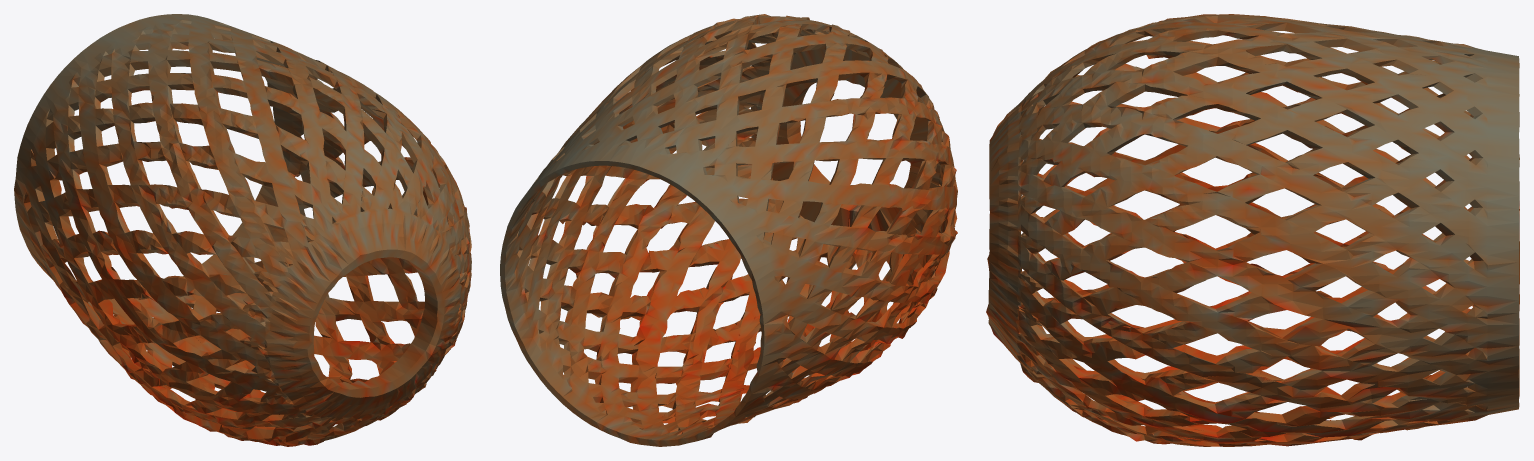
Rendered from lamp_shade_14_final100.obj.
3 renders of one model, left to right at view 1: azimuth 30°, elevation 25°; view 2: azimuth 150°, elevation 25°; view 3: azimuth 270°, elevation 25°, orthographic. The views are drawn at different scales.
Size of the model in its own units: 1.22 by 1.22 by 1.5.
